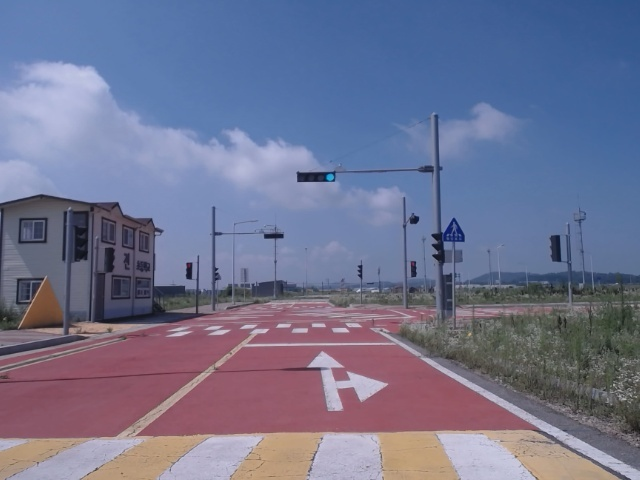straight_green_4: (297, 173, 336, 182)
